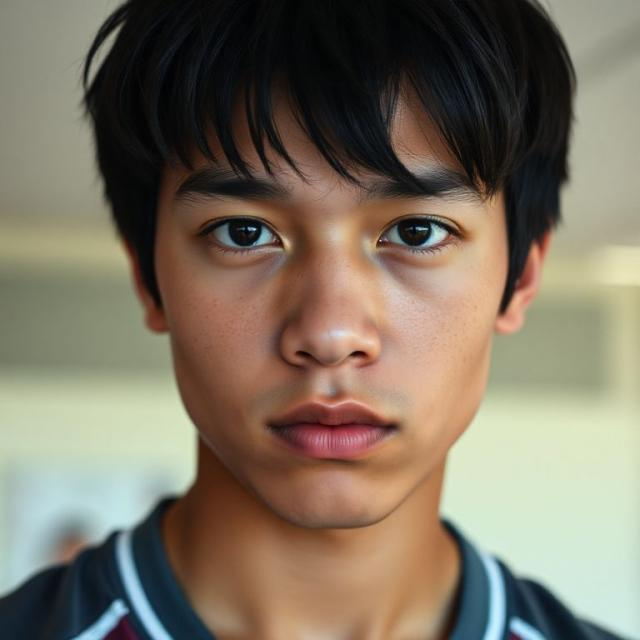0_rostro_limpio: (152, 68, 508, 528)
